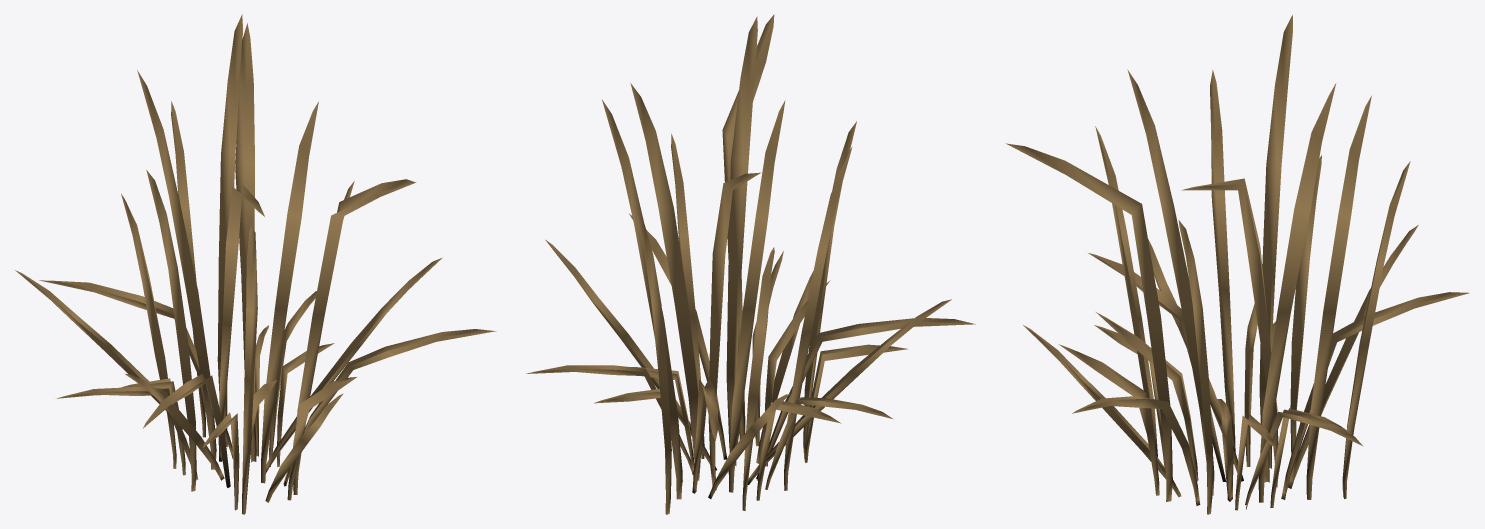
Rendered from Grass_Wispy_Tall__go_ruins.glb.
3 renders of one model, left to right at view 1: azimuth 30°, elevation 25°; view 2: azimuth 150°, elevation 25°; view 3: azimuth 270°, elevation 25°, orthographic. The views are drawn at different scales.
Parts seen in each view (by area): view 1: Grass_Wispy_Tall; view 2: Grass_Wispy_Tall; view 3: Grass_Wispy_Tall.
Part boxes in pixels (x1,y1,x2,y2): Grass_Wispy_Tall: [15, 14, 496, 514]; Grass_Wispy_Tall: [526, 14, 975, 514]; Grass_Wispy_Tall: [1005, 15, 1469, 514].
Size of the model in its own units: 1.54 by 1.67 by 1.59.
1 material, 1 textured.
